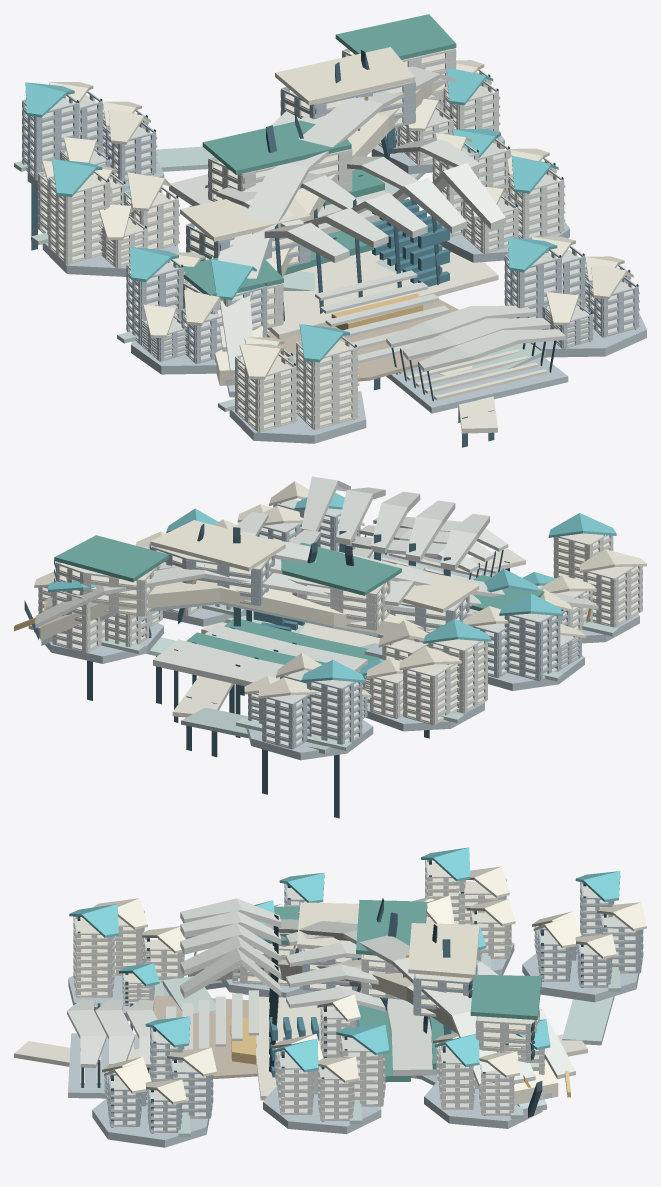
The model's file is J7R9_TENNU_URBAN_SEAM.glb.
3 renders of one model, top to bottom at view 1: azimuth 30°, elevation 25°; view 2: azimuth 150°, elevation 25°; view 3: azimuth 270°, elevation 25°, orthographic. The views are drawn at different scales.
Visible parts, largest first — view 1: CIVIC_KEEL_SKYLIGHT_ROOF_SLICE_0, ARCHIVE_PUBLIC_READING_HALL_FLOOR, UPPER_SPINE_CITY_SKYGARDEN_4, UPPER_SPINE_CITY_SKYGARDEN_3, TRANSIT_MAIN_INTERCHANGE_FLOOR, WEST_SOUTH_HOUSE_3_PERFORATED_OCCUPIED_ENVELOPE, UPPER_SPINE_CITY_SKYGARDEN_5, CIVIC_SEAM_MEGACITY_UPPER_LIVED_IN_KEEL, WEST_NORTH_HOUSE_3_PERFORATED_OCCUPIED_ENVELOPE, WEST_SOUTH_HOUSE_2_PERFORATED_OCCUPIED_ENVELOPE, UPPER_SPINE_CITY_SKYGARDEN_2, ASSEMBLY_REAL_FLOOR (+75 smaller); view 2: CIVIC_SEAM_MEGACITY_UPPER_LIVED_IN_KEEL, UPPER_SPINE_CITY_SKYGARDEN_4, URBAN_TERRACE_GARDEN_3, CIVIC_KEEL_SKYLIGHT_ROOF_SLICE_2, UPPER_SPINE_CITY_SKYGARDEN_3, UPPER_SPINE_CITY_SKYGARDEN_5, WEST_MID_HOUSE_2_PERFORATED_OCCUPIED_ENVELOPE, NORTH_PUBLIC_HOUSE_2_PERFORATED_OCCUPIED_ENVELOPE, A_ONE_CONNECTED_MAIN_BOULEVARD_ACTUAL_MESH, WEST_NORTH_HOUSE_2_PERFORATED_OCCUPIED_ENVELOPE, WEST_SOUTH_HOUSE_2_PERFORATED_OCCUPIED_ENVELOPE, CIVIC_KEEL_SKYLIGHT_ROOF_SLICE_0 (+52 smaller); view 3: CIVIC_KEEL_SKYLIGHT_ROOF_SLICE_0, UPPER_SPINE_CITY_SKYGARDEN_4, UPPER_SPINE_CITY_SKYGARDEN_5, CIVIC_SEAM_MEGACITY_UPPER_LIVED_IN_KEEL, URBAN_TERRACE_GARDEN_1, ARCHIVE_PUBLIC_READING_HALL_FLOOR, UPPER_SPINE_CITY_SKYGARDEN_3, ASSEMBLY_REAL_FLOOR, EAST_TRANSIT_URBAN_CITY_PODIUM, NORTH_PUBLIC_URBAN_CITY_PODIUM, EAST_PUBLIC_URBAN_CITY_PODIUM, B_BRANCH_STREET_WEST_NORTH (+72 smaller).
Part boxes in pixels (x1,y1,x2,y2): CIVIC_KEEL_SKYLIGHT_ROOF_SLICE_0: [219, 66, 487, 374]; ARCHIVE_PUBLIC_READING_HALL_FLOOR: [267, 250, 498, 339]; UPPER_SPINE_CITY_SKYGARDEN_4: [275, 47, 415, 105]; UPPER_SPINE_CITY_SKYGARDEN_3: [202, 120, 351, 174]; TRANSIT_MAIN_INTERCHANGE_FLOOR: [386, 356, 568, 413]; WEST_SOUTH_HOUSE_3_PERFORATED_OCCUPIED_ENVELOPE: [296, 336, 357, 429]; UPPER_SPINE_CITY_SKYGARDEN_5: [335, 14, 456, 59]; CIVIC_SEAM_MEGACITY_UPPER_LIVED_IN_KEEL: [214, 82, 443, 385]; WEST_NORTH_HOUSE_3_PERFORATED_OCCUPIED_ENVELOPE: [48, 171, 110, 264]; WEST_SOUTH_HOUSE_2_PERFORATED_OCCUPIED_ENVELOPE: [235, 353, 296, 432]; UPPER_SPINE_CITY_SKYGARDEN_2: [180, 197, 310, 241]; ASSEMBLY_REAL_FLOOR: [267, 299, 458, 381]; CIVIC_SEAM_MEGACITY_UPPER_LIVED_IN_KEEL: [40, 580, 436, 641]; UPPER_SPINE_CITY_SKYGARDEN_4: [150, 520, 285, 571]; URBAN_TERRACE_GARDEN_3: [153, 639, 308, 686]; CIVIC_KEEL_SKYLIGHT_ROOF_SLICE_2: [35, 566, 478, 628]; UPPER_SPINE_CITY_SKYGARDEN_3: [281, 542, 401, 595]; UPPER_SPINE_CITY_SKYGARDEN_5: [54, 535, 169, 582]; WEST_MID_HOUSE_2_PERFORATED_OCCUPIED_ENVELOPE: [504, 615, 560, 681]; NORTH_PUBLIC_HOUSE_2_PERFORATED_OCCUPIED_ENVELOPE: [306, 681, 362, 744]; A_ONE_CONNECTED_MAIN_BOULEVARD_ACTUAL_MESH: [172, 549, 525, 717]; WEST_NORTH_HOUSE_2_PERFORATED_OCCUPIED_ENVELOPE: [403, 664, 459, 725]; WEST_SOUTH_HOUSE_2_PERFORATED_OCCUPIED_ENVELOPE: [583, 566, 642, 627]; CIVIC_KEEL_SKYLIGHT_ROOF_SLICE_0: [141, 536, 598, 609]; CIVIC_KEEL_SKYLIGHT_ROOF_SLICE_0: [158, 919, 496, 1087]; UPPER_SPINE_CITY_SKYGARDEN_4: [408, 923, 479, 978]; UPPER_SPINE_CITY_SKYGARDEN_5: [470, 974, 541, 1019]; CIVIC_SEAM_MEGACITY_UPPER_LIVED_IN_KEEL: [188, 951, 558, 1105]; URBAN_TERRACE_GARDEN_1: [386, 998, 436, 1075]; ARCHIVE_PUBLIC_READING_HALL_FLOOR: [256, 996, 334, 1100]; UPPER_SPINE_CITY_SKYGARDEN_3: [356, 899, 427, 955]; ASSEMBLY_REAL_FLOOR: [149, 995, 257, 1078]; EAST_TRANSIT_URBAN_CITY_PODIUM: [92, 1099, 209, 1147]; NORTH_PUBLIC_URBAN_CITY_PODIUM: [522, 950, 639, 1002]; EAST_PUBLIC_URBAN_CITY_PODIUM: [263, 1086, 381, 1134]; B_BRANCH_STREET_WEST_NORTH: [562, 996, 614, 1045].
Bounding box in the file's own units: 2200 × 906 × 2790.
